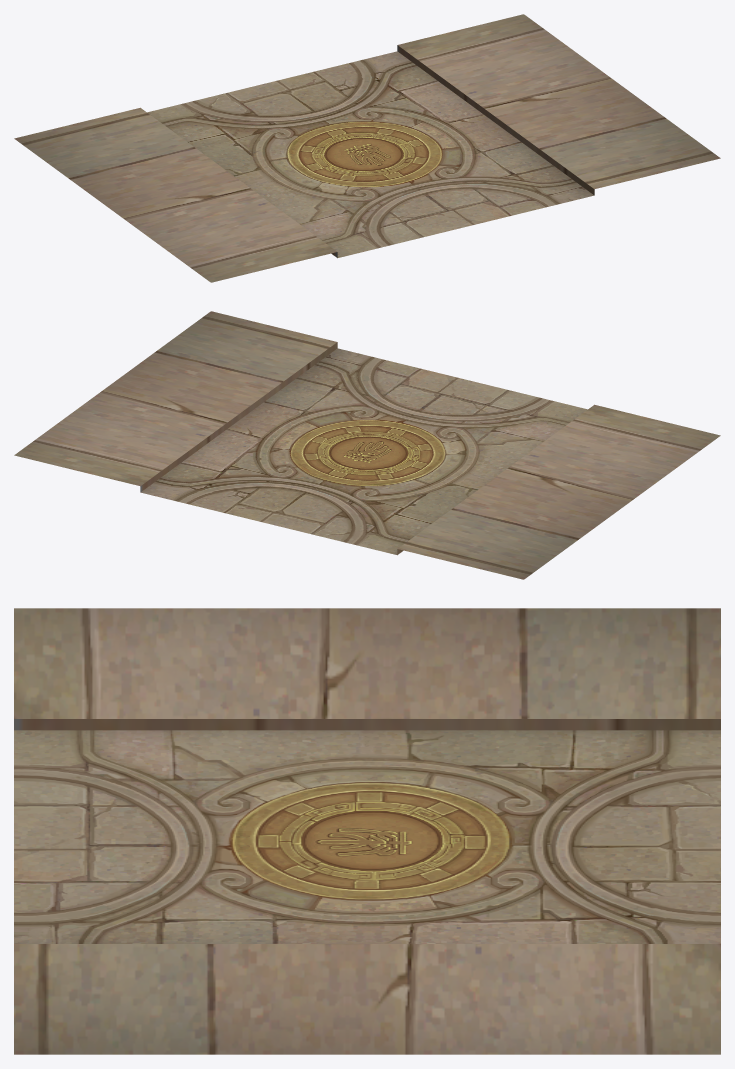
The model's file is MJ_zhanqin_dibiao.FBX.
The picture shows the model from 3 angles, top to bottom: view 1: azimuth 30°, elevation 25°; view 2: azimuth 150°, elevation 25°; view 3: azimuth 270°, elevation 25°; orthographic projection. The views are drawn at different scales.
Parts seen in each view (by area): view 1: Object08; view 2: Object08; view 3: Object08.
Boxes of the visible parts, bbox=[...] form: Object08: bbox=[14, 14, 720, 282]; Object08: bbox=[14, 311, 720, 579]; Object08: bbox=[14, 608, 720, 1054].
Size of the model in its own units: 29.87 by 0.3524 by 20.
